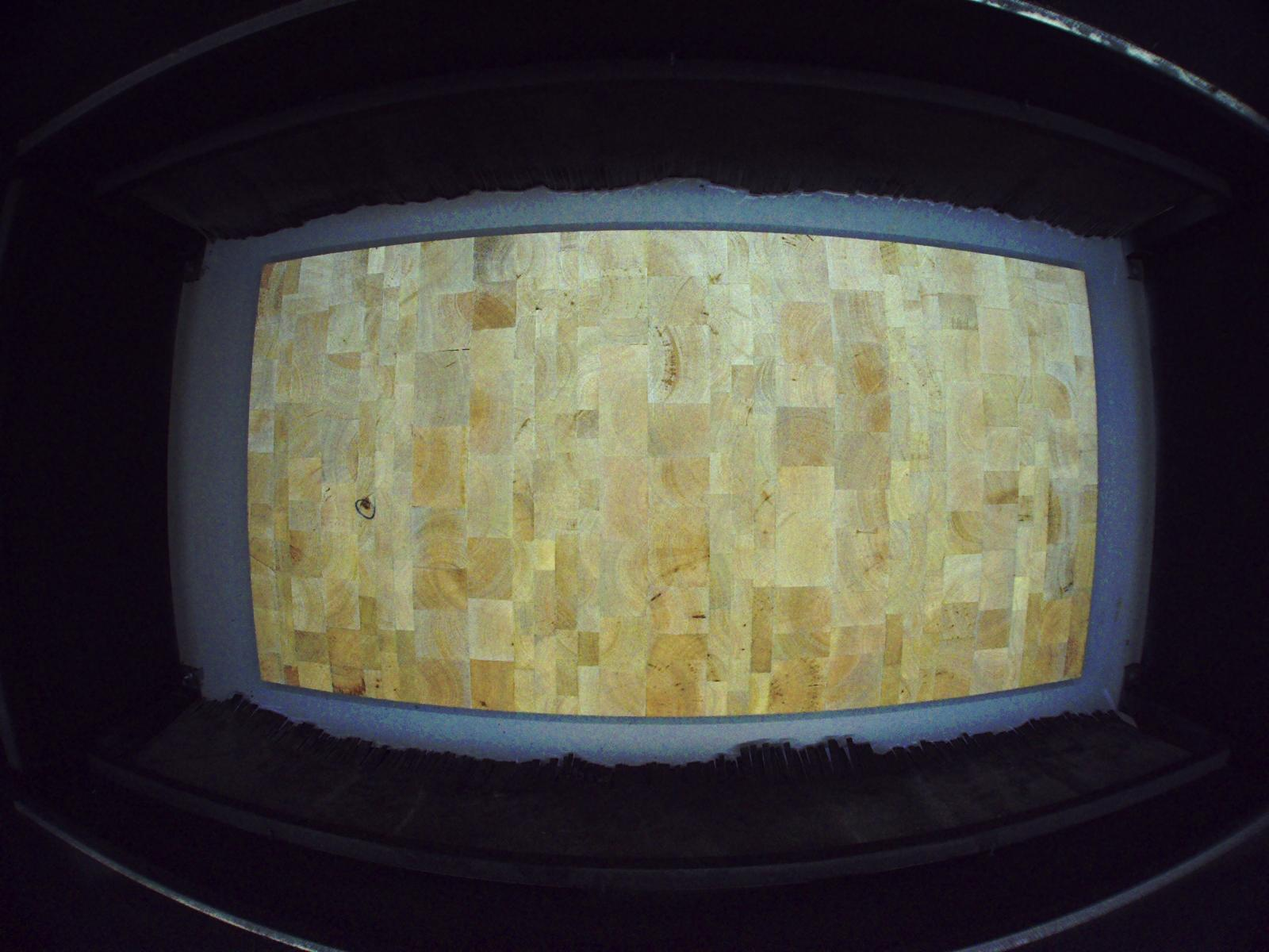sheck_ecuatoriano: (357, 492, 375, 511)
